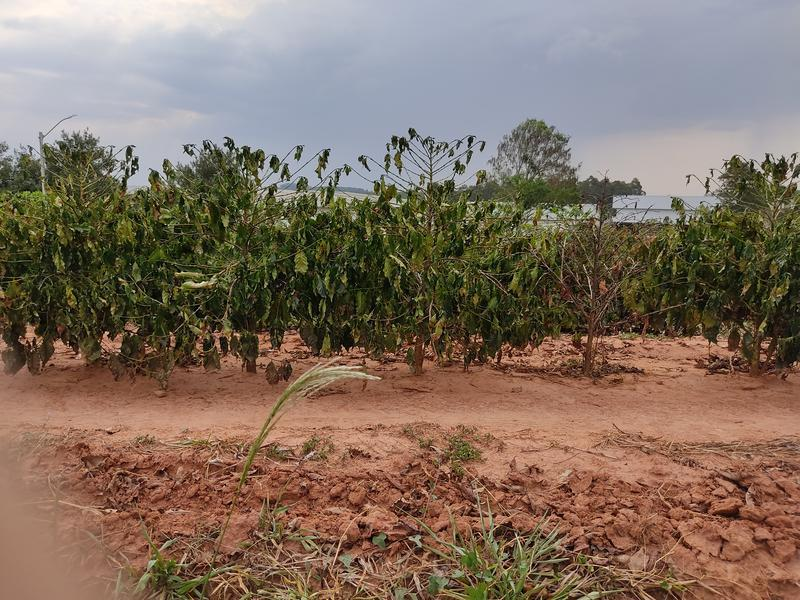coffee: (358, 109, 499, 395), (167, 145, 328, 389), (3, 142, 154, 402), (518, 172, 674, 407), (673, 148, 800, 387)
